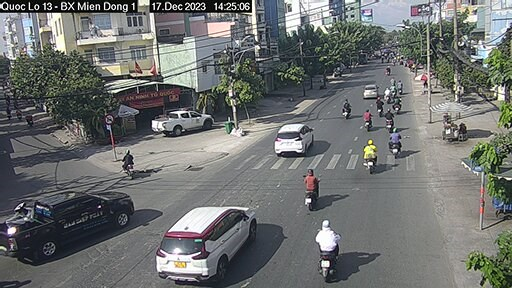car: (7, 186, 138, 264), (153, 204, 263, 284), (151, 110, 215, 136), (273, 121, 317, 155), (361, 80, 378, 100)
motorbike: (316, 218, 341, 274), (298, 168, 325, 207), (361, 141, 381, 171), (383, 131, 404, 155), (358, 110, 371, 130)
